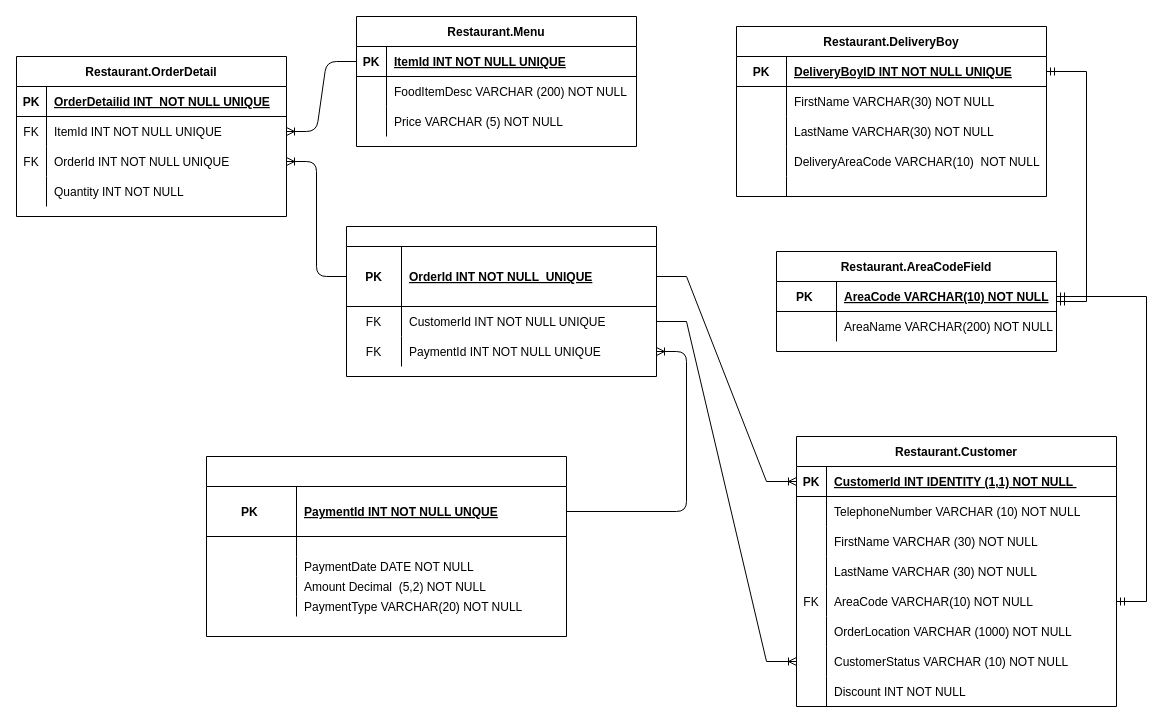
This 1163x723 diagram has some shape labels left out. Here are the shapes that lost their labels. From the top down, the box of each, then its label:
(346, 226, 656, 376): Restaurant.ToOrder
(206, 456, 566, 636): Restaurant.Payment
